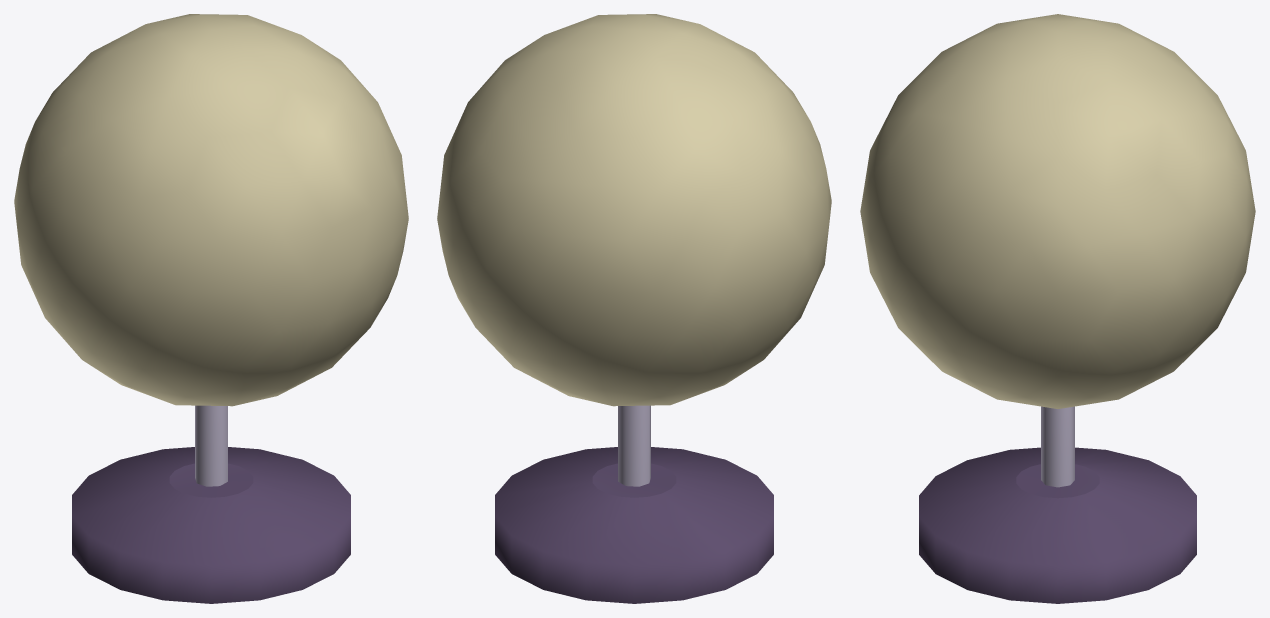
File: furn_moon_lamp.glb
3 renders of one model, left to right at view 1: azimuth 30°, elevation 25°; view 2: azimuth 150°, elevation 25°; view 3: azimuth 270°, elevation 25°, orthographic.
Parts seen in each view (by area): view 1: furn_moon_lamp_glow, furn_moon_lamp_main; view 2: furn_moon_lamp_glow, furn_moon_lamp_main; view 3: furn_moon_lamp_glow, furn_moon_lamp_main.
Boxes of the visible parts, <box> form: furn_moon_lamp_glow: <box>14,14,408,406</box>; furn_moon_lamp_main: <box>72,405,350,603</box>; furn_moon_lamp_glow: <box>437,14,831,406</box>; furn_moon_lamp_main: <box>495,405,773,603</box>; furn_moon_lamp_glow: <box>860,14,1255,408</box>; furn_moon_lamp_main: <box>919,406,1196,603</box>.
Bounding box in the file's own units: 0.28 × 0.4 × 0.28.
